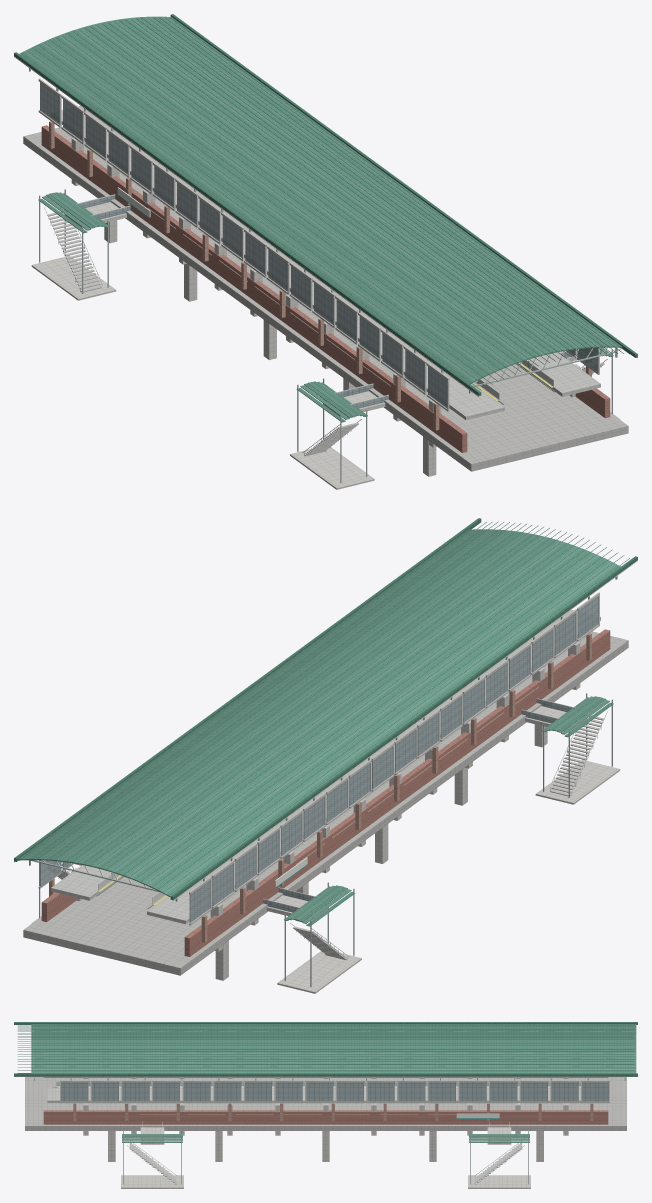
Rendered from agargaon-station.glb.
3 views of the same model, one above another, from view 1: azimuth 30°, elevation 25°; view 2: azimuth 150°, elevation 25°; view 3: azimuth 270°, elevation 25° (orthographic). The views are drawn at different scales.
Visible parts, largest first — view 1: Agargaon photoreferenced urban station – batched; view 2: Agargaon photoreferenced urban station – batched; view 3: Agargaon photoreferenced urban station – batched.
Boxes of the visible parts, x1,y1,x2,y2 form: Agargaon photoreferenced urban station – batched: (14, 14, 637, 489); Agargaon photoreferenced urban station – batched: (14, 518, 637, 993); Agargaon photoreferenced urban station – batched: (14, 1022, 637, 1188).
Bounding box in the file's own units: 59.6 × 30.21 × 169.
15 materials, 10 textured.
